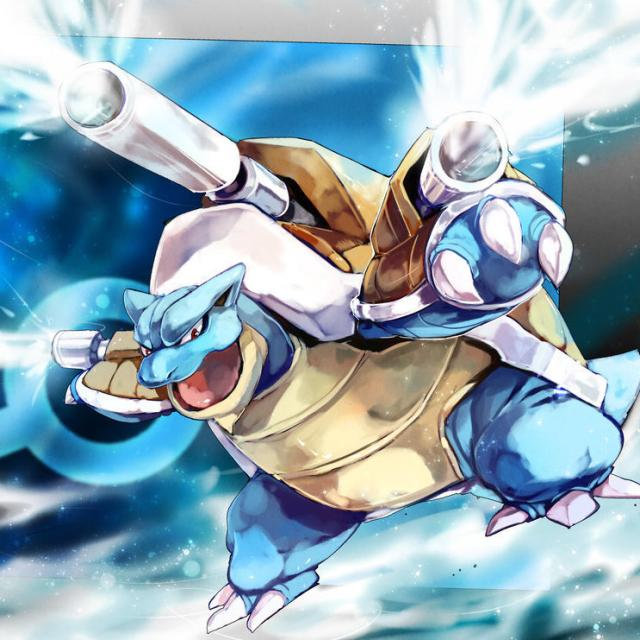Blastoise: (63, 61, 611, 546)
